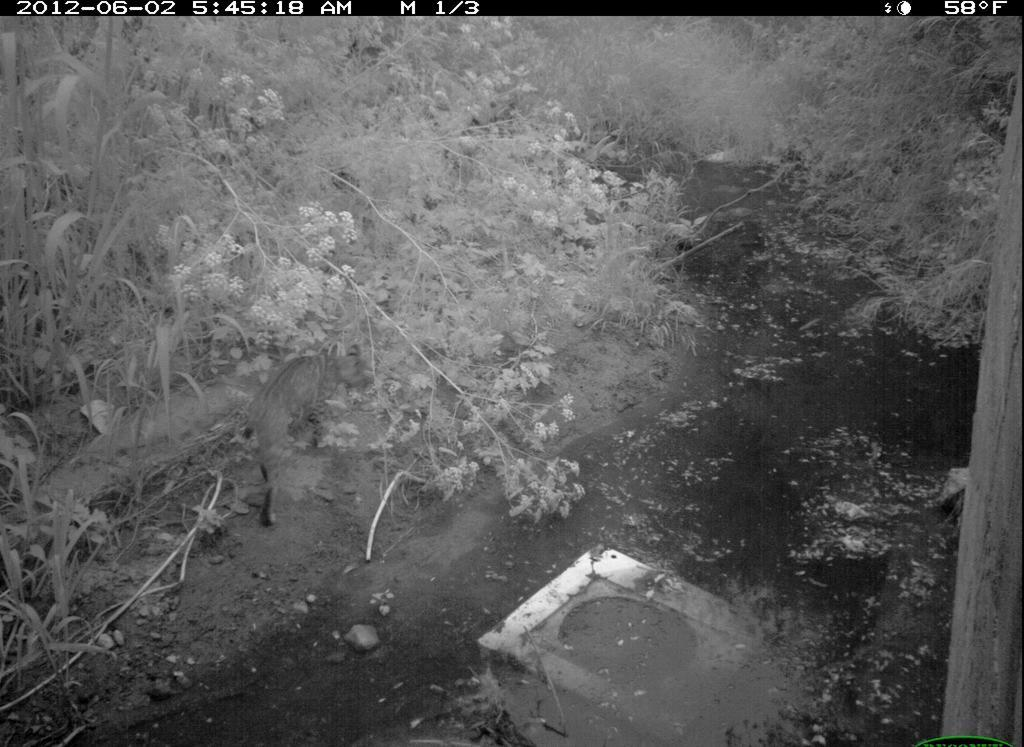bobcat: (214, 346, 365, 532)
